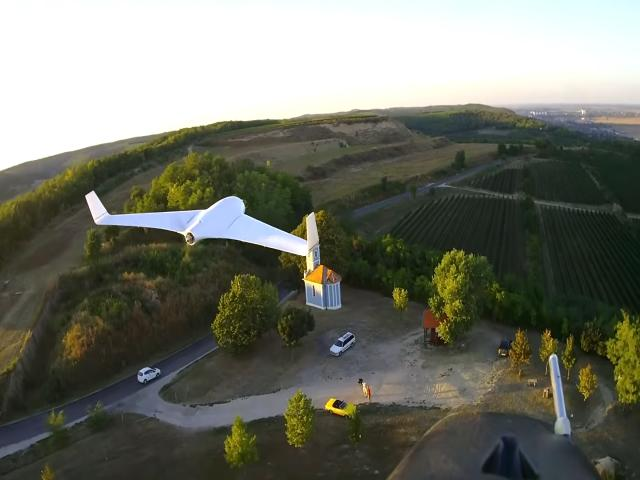plane: (84, 190, 318, 256)
